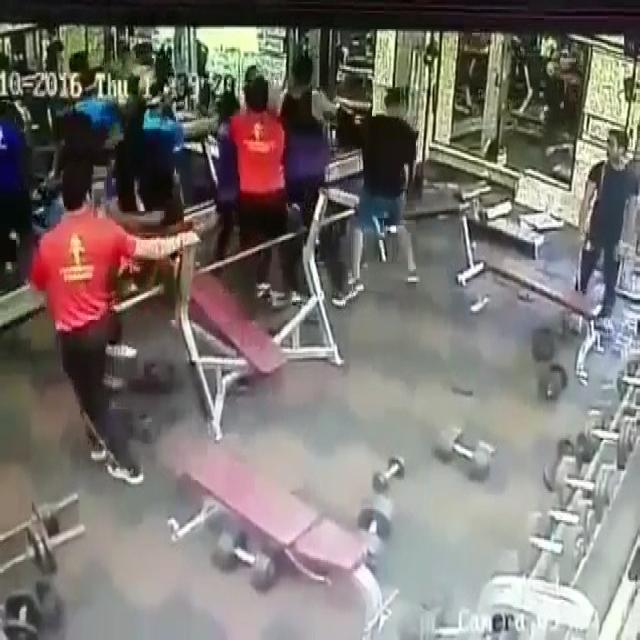fight: (122, 56, 297, 240)
